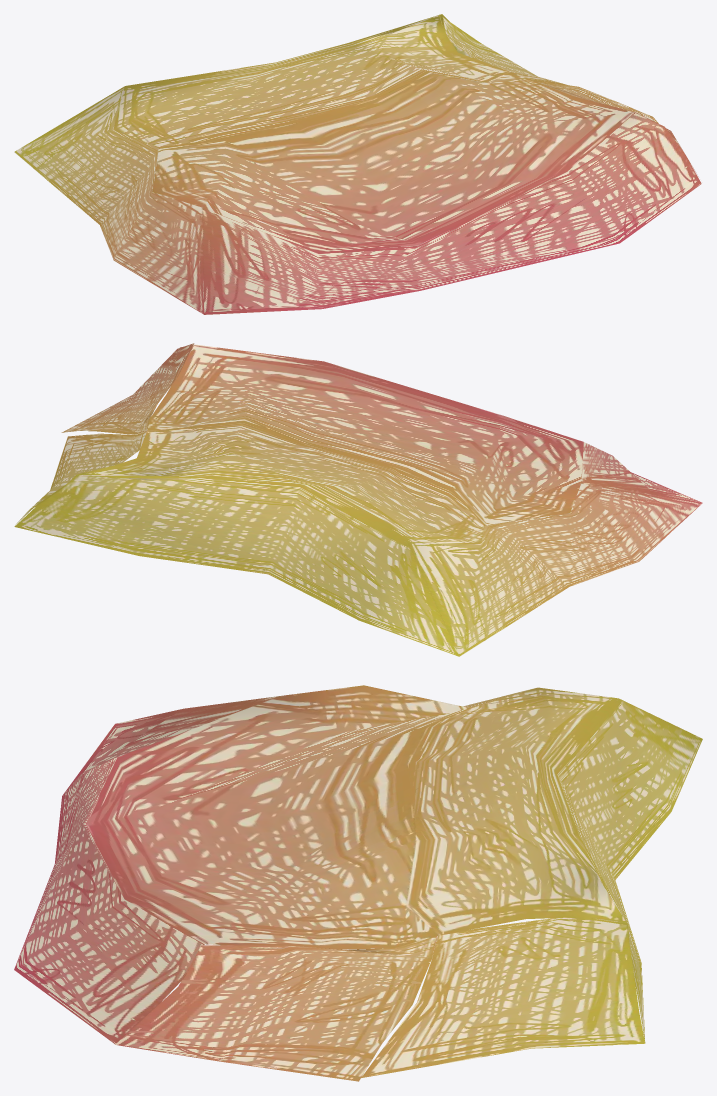
File: tent2_2050.glb
3 renders of one model, top to bottom at view 1: azimuth 30°, elevation 25°; view 2: azimuth 150°, elevation 25°; view 3: azimuth 270°, elevation 25°, orthographic. The views are drawn at different scales.
Parts seen in each view (by area): view 1: Tente1_2050; view 2: Tente1_2050; view 3: Tente1_2050.
Boxes of the visible parts, x1,y1,x2,y2 form: Tente1_2050: (14, 14, 701, 314); Tente1_2050: (14, 343, 702, 656); Tente1_2050: (14, 685, 702, 1081).
Size of the model in its own units: 5.72 by 0.8595 by 4.5.
1 material, 1 textured.
